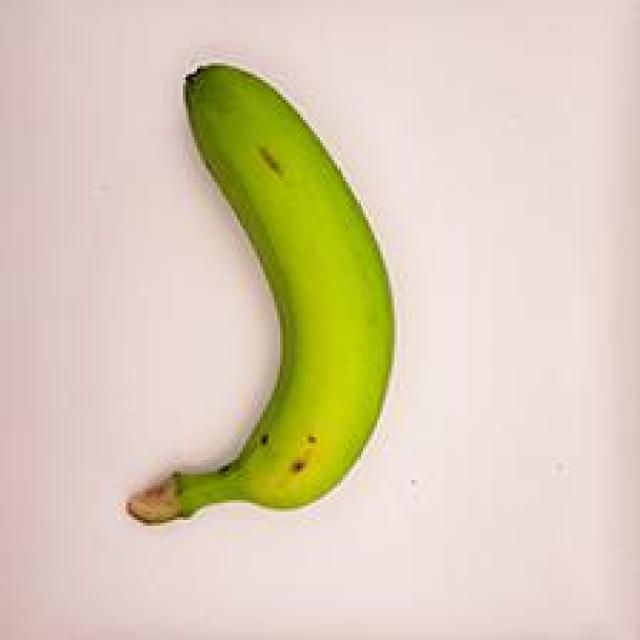Unripe: (108, 54, 424, 554)
